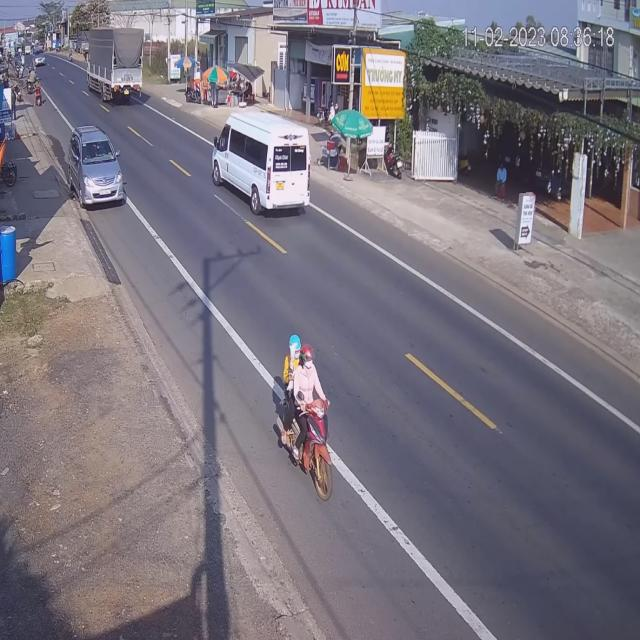bus: (214, 109, 312, 217)
car: (67, 128, 125, 212)
motorbike: (276, 338, 338, 500)
truck: (88, 24, 146, 104)
